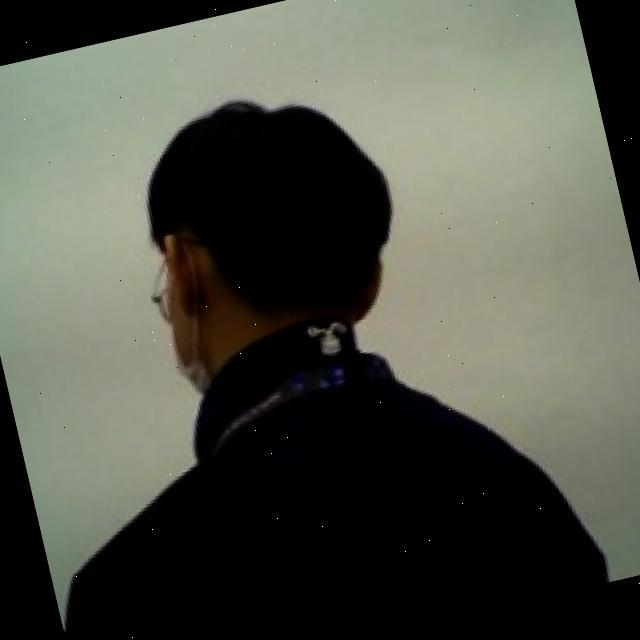no_gloves: (122, 68, 420, 365)
